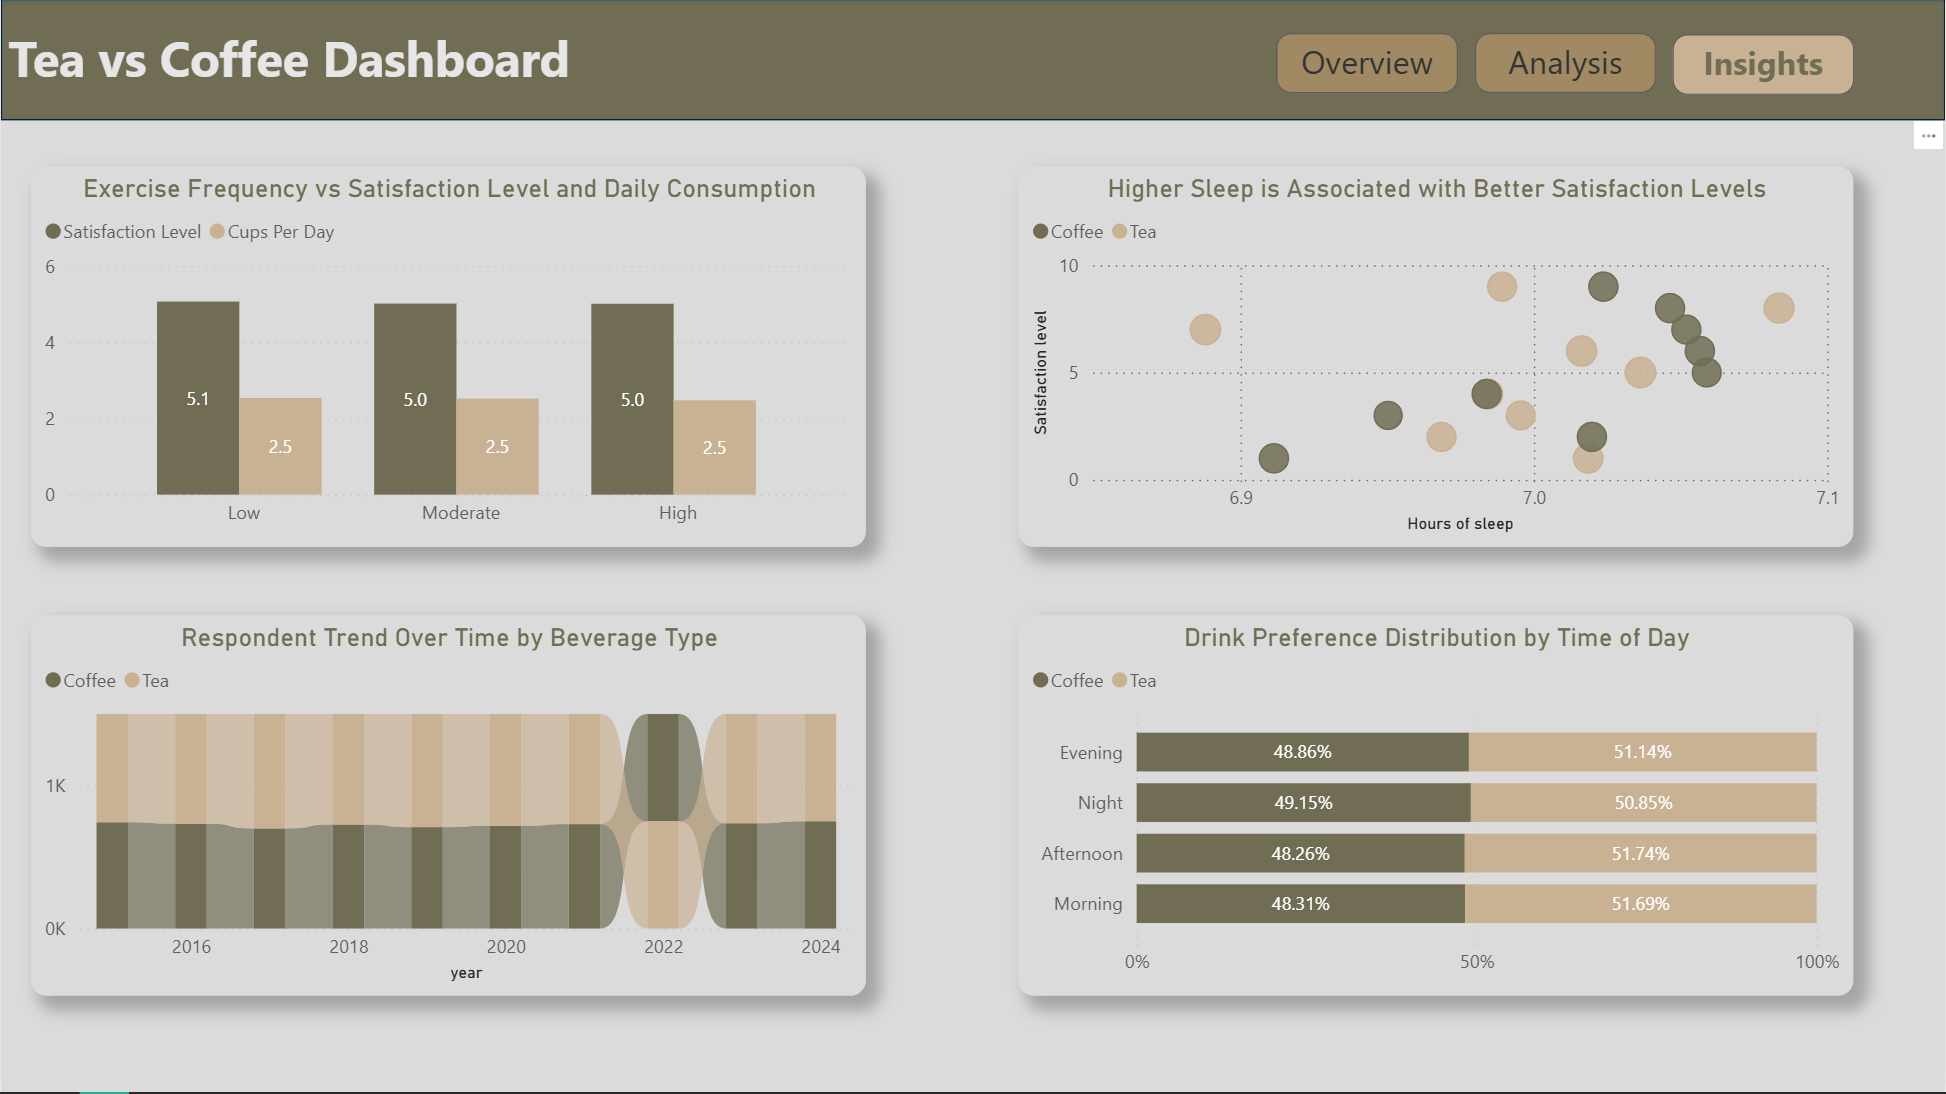

What the dashboard file says about the page in this screenshot:
{"tool":"powerbi","page":{"name":"Page 1","canvas":[1280,720],"ordinal":0},"visuals":[{"type":"shape","box":[0,0,1280.2,79.9],"z":0},{"type":"scatterChart","title":"Higher Sleep is Associated with Better Satisfaction Levels","fields":{"X":["Avg(tea_vs_coffee_global_final.sleep_hours)"],"Y":["tea_vs_coffee_global_final.satisfaction_level"],"Size":["CountNonNull(tea_vs_coffee_global_final.cups_per_day)"],"Series":["tea_vs_coffee_global_final.drink_preference"]},"box":[669.8,110,549.7,250.3],"z":0,"group":"g1"},{"type":"clusteredColumnChart","title":"Exercise Frequency vs Satisfaction Level and Daily Consumption","fields":{"Category":["tea_vs_coffee_global_final.exercise_frequency"],"Y":["tea_vs_coffee_global_final.Avg Satisfaction","Avg(tea_vs_coffee_global_final.cups_per_day)"]},"box":[20,110,549.7,250.3],"z":1000,"group":"g1"},{"type":"ribbonChart","title":"Respondent Trend Over Time by Beverage Type","fields":{"Category":["tea_vs_coffee_global_final.year"],"Series":["tea_vs_coffee_global_final.drink_preference"],"Y":["tea_vs_coffee_global_final.Total Respondents"]},"box":[20,405.9,549.7,250.3],"z":2000,"group":"g1"},{"type":"group","id":"g1","title":"Page 3","box":[20,110,1199.6,546.1],"z":3000},{"type":"hundredPercentStackedBarChart","title":"Drink Preference Distribution by Time of Day","fields":{"Category":["tea_vs_coffee_global_final.time_of_day"],"Y":["tea_vs_coffee_global_final.Total Respondents"],"Series":["tea_vs_coffee_global_final.drink_preference"]},"box":[669.8,405.9,549.7,250.3],"z":3000,"group":"g1"},{"type":"textbox","box":[0,12.4,439.6,67.2],"z":4000},{"type":"actionButton","box":[839.4,22.4,120,40],"z":5000},{"type":"actionButton","box":[970.5,22.4,119.4,39.8],"z":6000},{"type":"actionButton","title":"Button act","box":[1100.3,22.9,120,40.3],"z":10000}]}

Visuals, with their boxes in screenshot pixels (x1, y1, x2, y2), scaled from the page's 1280x720 canvas onto the 1946x1094 screenshot:
shape: [left=0, top=0, right=1945, bottom=121]
"Higher Sleep is Associated with Better Satisfaction Levels" scatterChart: [left=1018, top=167, right=1854, bottom=547]
"Exercise Frequency vs Satisfaction Level and Daily Consumption" clusteredColumnChart: [left=30, top=167, right=866, bottom=547]
"Respondent Trend Over Time by Beverage Type" ribbonChart: [left=30, top=617, right=866, bottom=997]
"Page 3" group: [left=30, top=167, right=1854, bottom=997]
"Drink Preference Distribution by Time of Day" hundredPercentStackedBarChart: [left=1018, top=617, right=1854, bottom=997]
textbox: [left=0, top=19, right=668, bottom=121]
actionButton: [left=1276, top=34, right=1459, bottom=95]
actionButton: [left=1475, top=34, right=1657, bottom=95]
"Button act" actionButton: [left=1673, top=35, right=1855, bottom=96]
